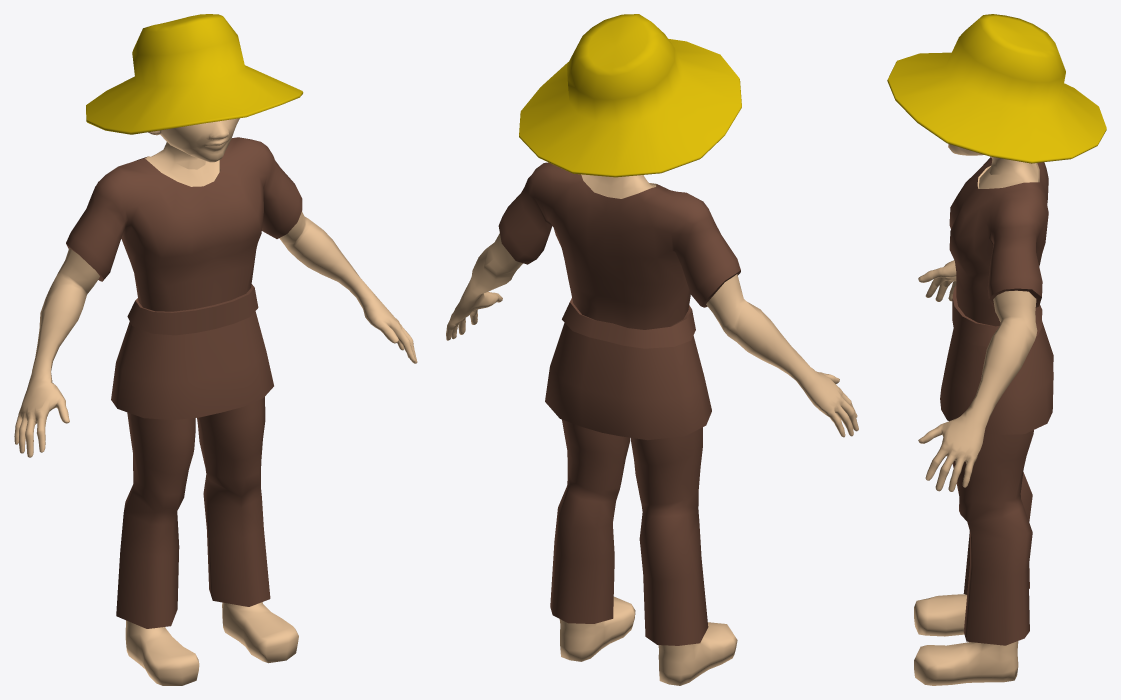
Rendered from villager (1).fbx.
The picture shows the model from 3 angles, left to right: view 1: azimuth 30°, elevation 25°; view 2: azimuth 150°, elevation 25°; view 3: azimuth 270°, elevation 25°; orthographic projection. The views are drawn at different scales.
Parts seen in each view (by area): view 1: villager; view 2: villager; view 3: villager.
Part boxes in pixels (box(x1,y1,x2,y2)): villager: box(14, 14, 417, 685); villager: box(446, 14, 858, 685); villager: box(887, 14, 1106, 685).
Size of the model in its own units: 571 by 875 by 275.
